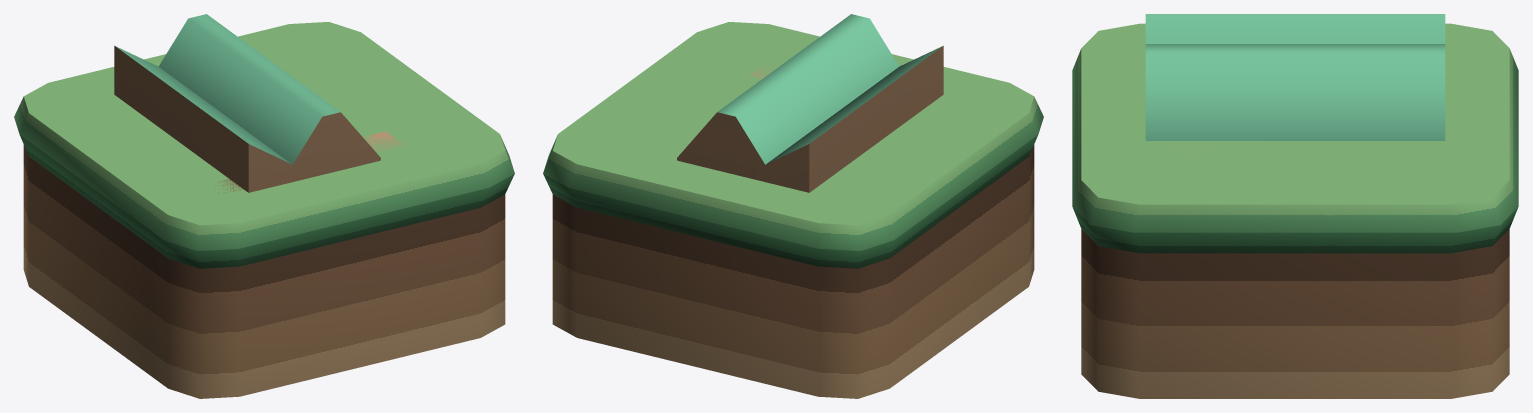
Rendered from kit-props.glb.
3 renders of one model, left to right at view 1: azimuth 30°, elevation 25°; view 2: azimuth 150°, elevation 25°; view 3: azimuth 270°, elevation 25°, orthographic. The views are drawn at different scales.
Parts seen in each view (by area): view 1: block-grass-large, cabin-roof-point, cabin-roof, block-grass, cabin-doorway; view 2: block-grass-large, cabin-roof-point, cabin-roof, block-grass; view 3: block-grass-large, cabin-roof-point, cabin-roof.
Boxes of the visible parts, box(x1,y1,x2,y2) form: block-grass-large: box(14, 22, 514, 398); cabin-roof-point: box(159, 14, 380, 184); cabin-roof: box(114, 45, 301, 192); block-grass: box(293, 77, 373, 140); cabin-doorway: box(364, 131, 404, 151); block-grass-large: box(543, 22, 1043, 398); cabin-roof-point: box(677, 14, 898, 183); cabin-roof: box(756, 45, 943, 192); block-grass: box(683, 78, 761, 140); block-grass-large: box(1072, 23, 1518, 398); cabin-roof-point: box(1145, 44, 1445, 140); cabin-roof: box(1145, 14, 1445, 43).
Bounding box in the file's own units: 2.08 × 1.48 × 2.08.
Materials: 3 (3 with a texture image).
